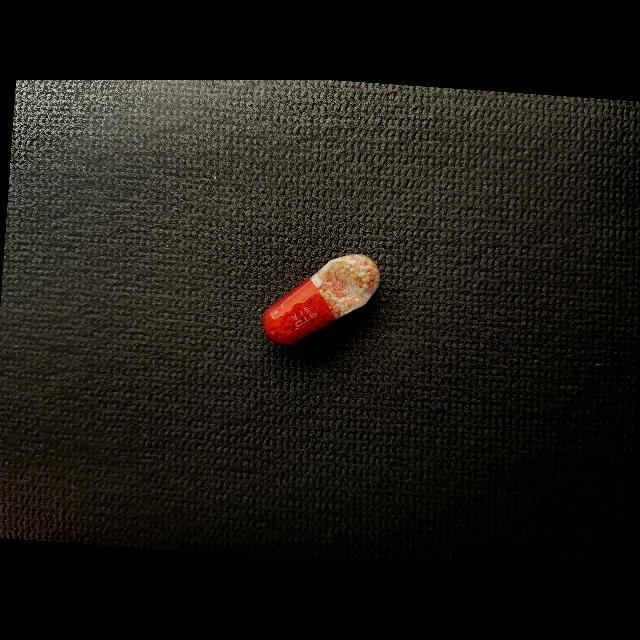Defective Capsule: (263, 254, 380, 345)
